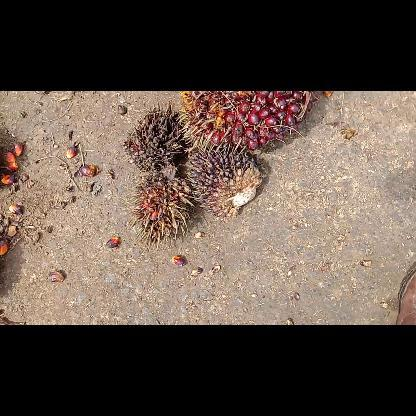TBS abnormal: (186, 144, 265, 219), (129, 168, 191, 244), (125, 106, 187, 172)
TBS masak: (176, 91, 316, 151)
